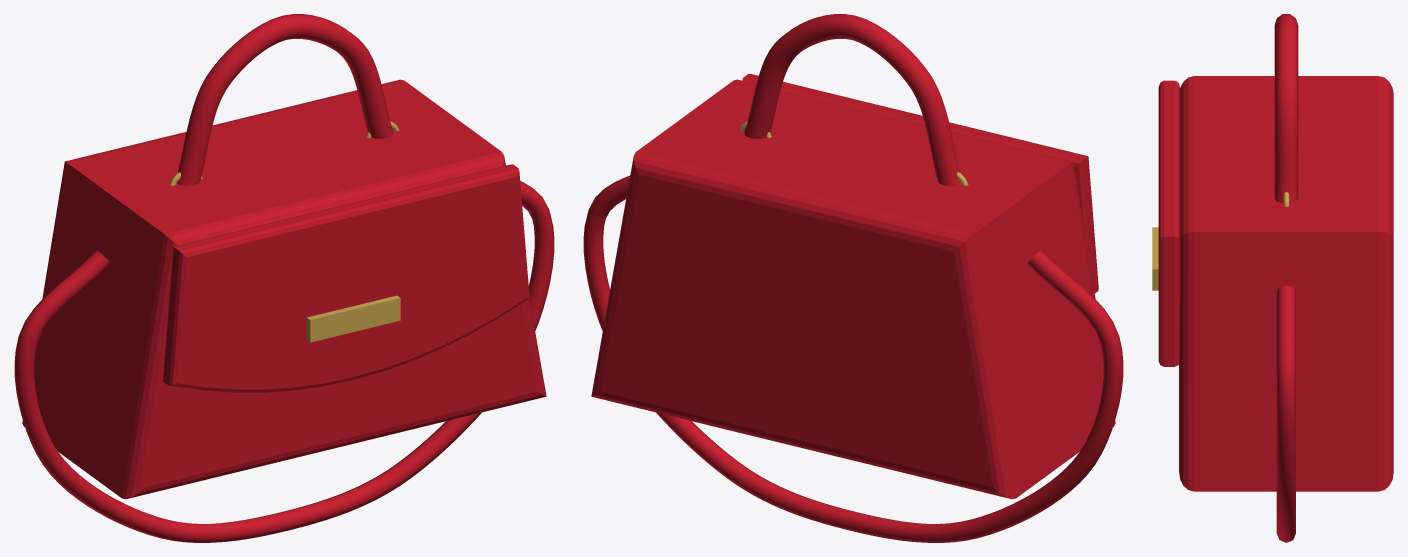
File: bolso-rojo.glb
3 views of the same model, side by side, from view 1: azimuth 30°, elevation 25°; view 2: azimuth 150°, elevation 25°; view 3: azimuth 270°, elevation 25° (orthographic). The views are drawn at different scales.
Bounding box in the file's own units: 0.2737 × 0.2497 × 0.1125.
